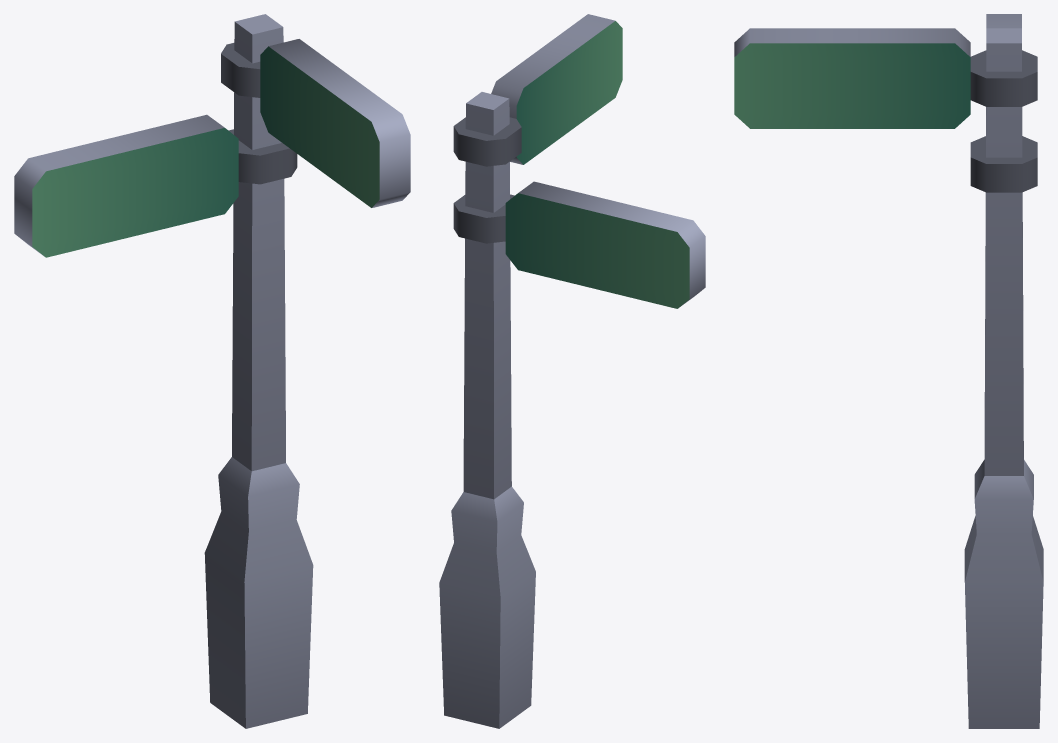
File: street-sign-01.glb
The picture shows the model from 3 angles, left to right: view 1: azimuth 30°, elevation 25°; view 2: azimuth 150°, elevation 25°; view 3: azimuth 270°, elevation 25°; orthographic projection. The views are drawn at different scales.
Visible parts, largest first — view 1: street-sign-01; view 2: street-sign-01; view 3: street-sign-01.
Part boxes in pixels (bbox=[...]): street-sign-01: bbox=[14, 14, 410, 728]; street-sign-01: bbox=[439, 14, 705, 728]; street-sign-01: bbox=[734, 14, 1043, 728].
Bounding box in the file's own units: 1 × 2.42 × 1.
